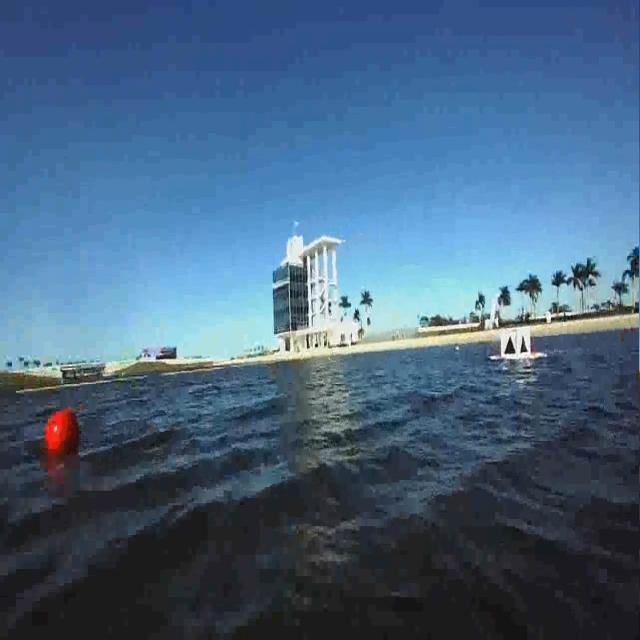red-buoy: (44, 406, 85, 464)
